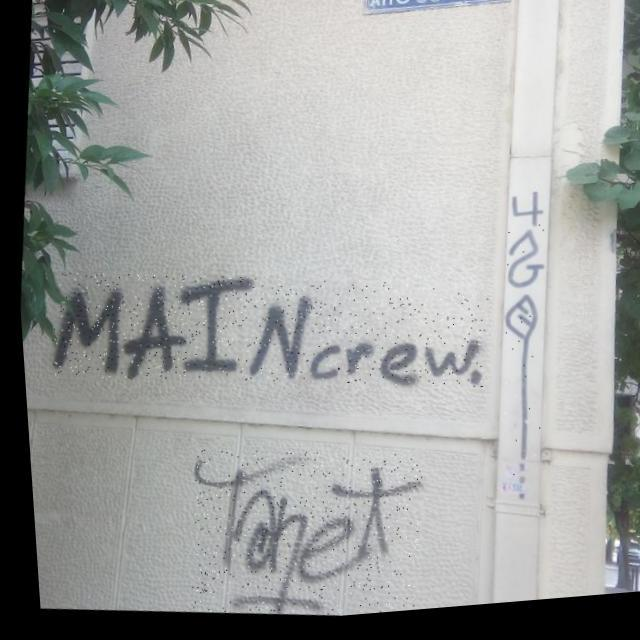-: (40, 245, 490, 422), (172, 437, 424, 630), (474, 198, 562, 512)
